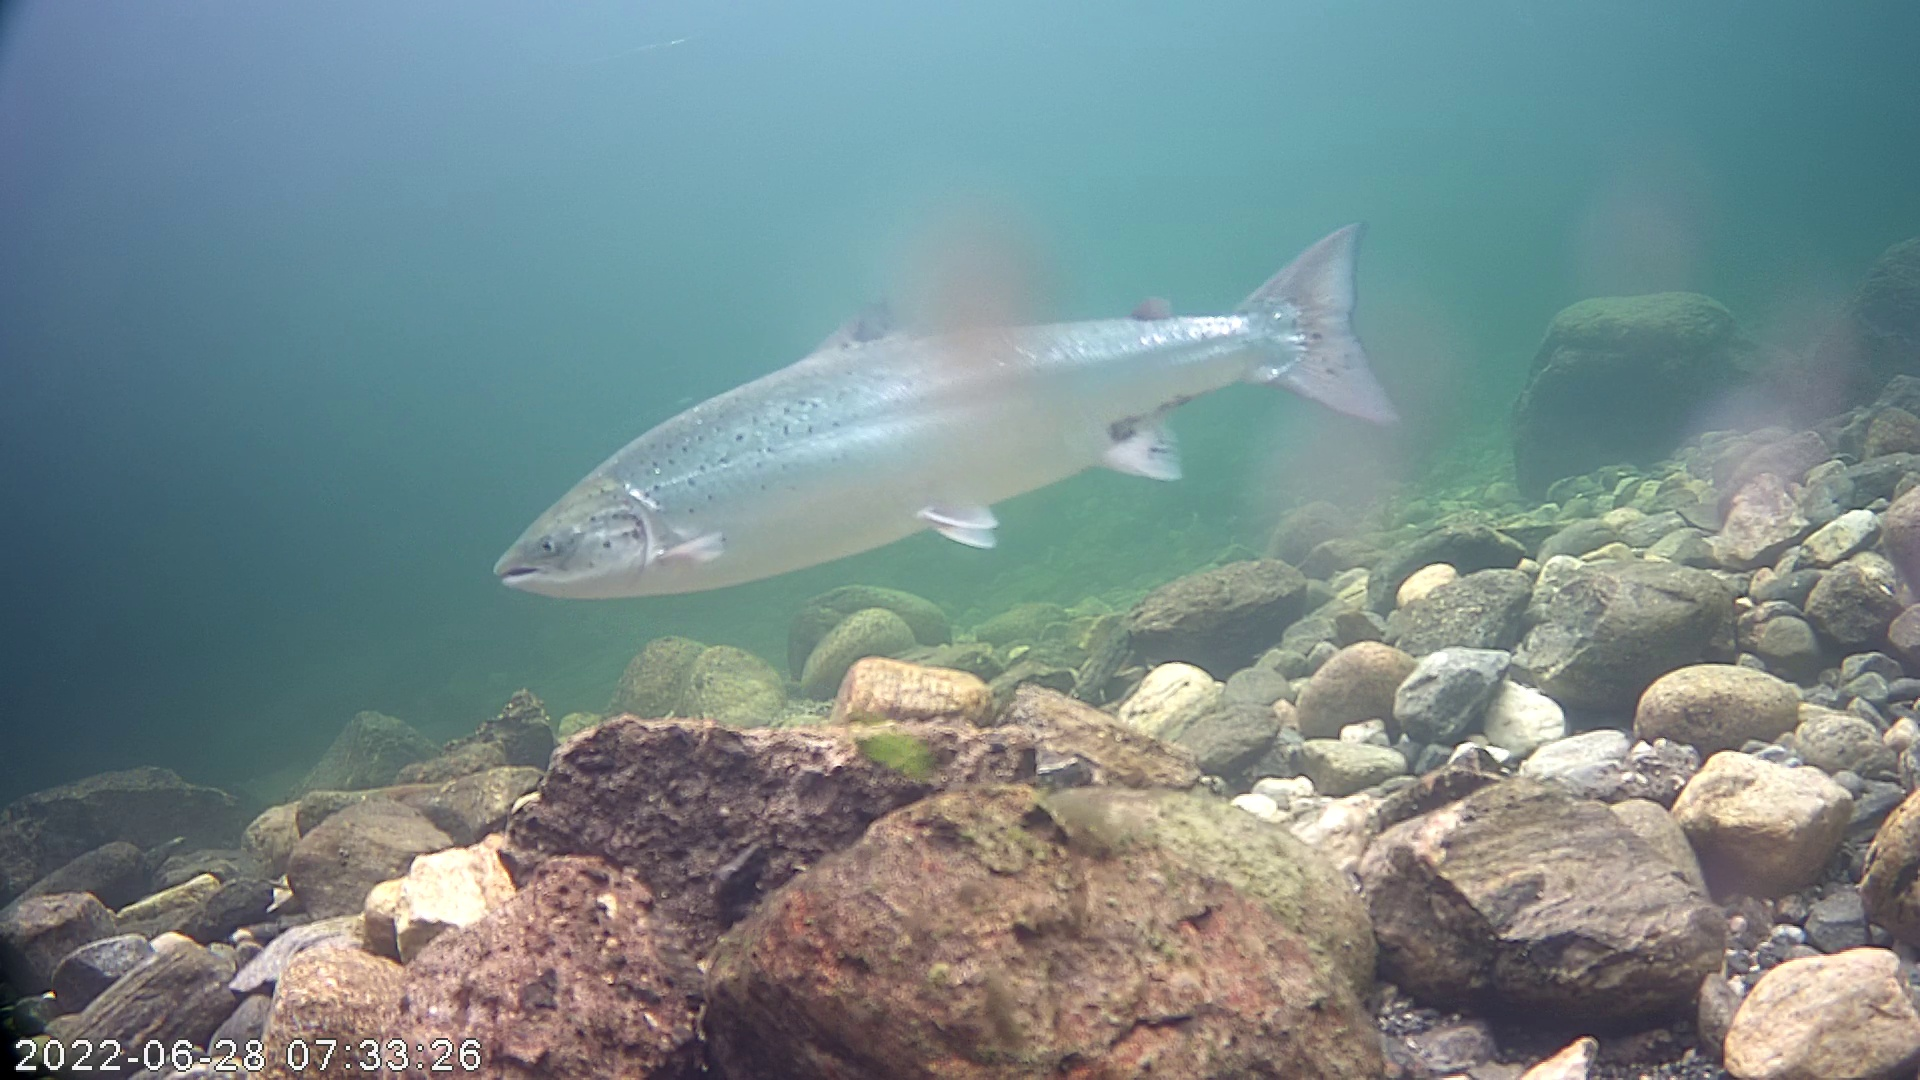salmon: (495, 153, 1432, 625)
